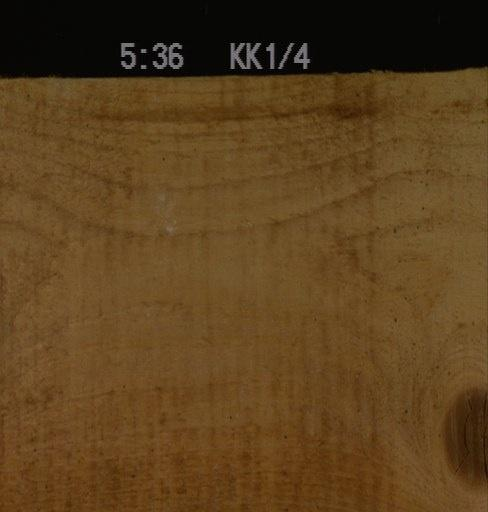sound_knot: (440, 379, 487, 489)
